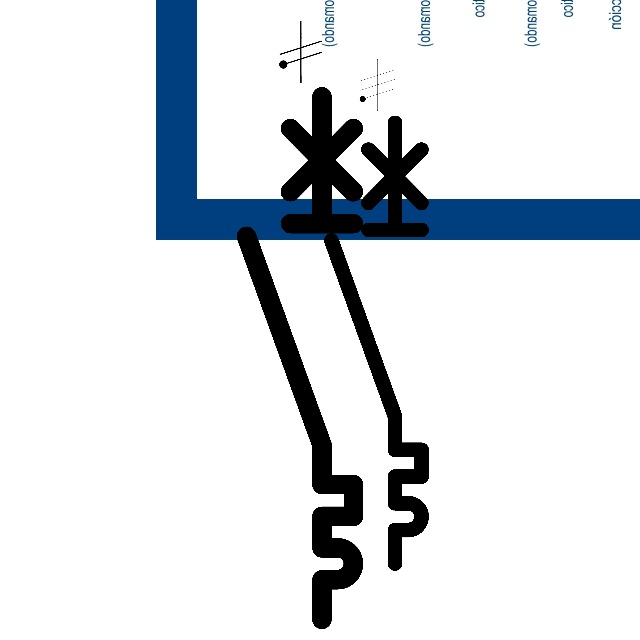interruptor_termomagnetico: (233, 83, 367, 633), (320, 111, 433, 574)
